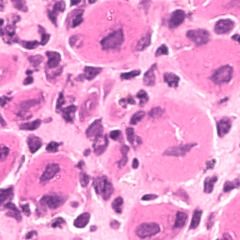New: (139, 101, 216, 183), (66, 1, 151, 64), (177, 38, 240, 99), (13, 152, 77, 203), (123, 200, 188, 240), (1, 131, 23, 185)
